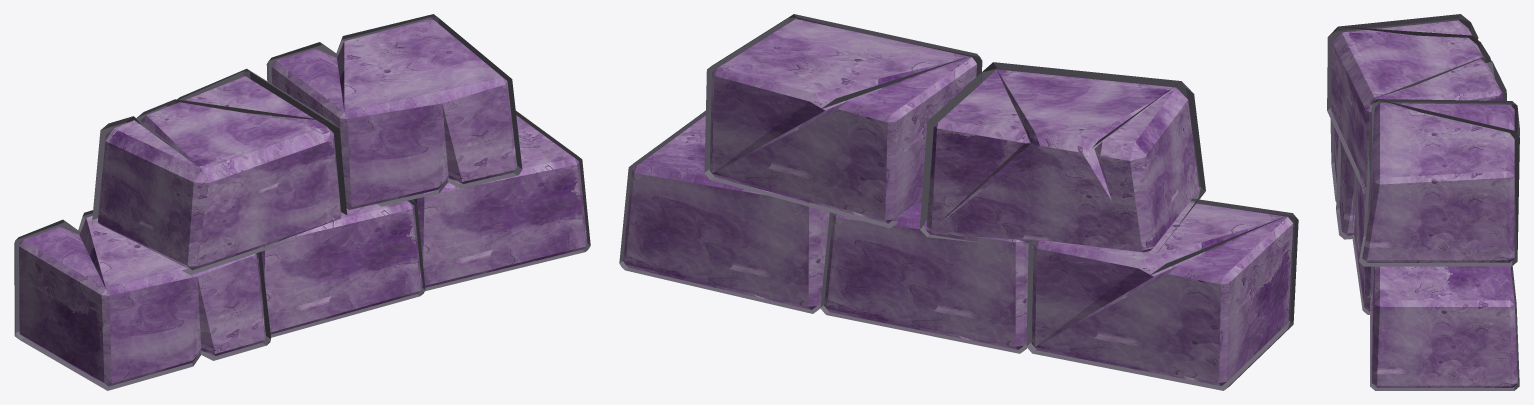
Rendered from entity42242.gltf.
The picture shows the model from 3 angles, left to right: view 1: azimuth 30°, elevation 25°; view 2: azimuth 150°, elevation 25°; view 3: azimuth 270°, elevation 25°; orthographic projection. The views are drawn at different scales.
Parts seen in each view (by area): view 1: node_mesh_ruins_041; view 2: node_mesh_ruins_041; view 3: node_mesh_ruins_041.
Part boxes in pixels (left/top/right/bottom): node_mesh_ruins_041: left=14, top=14, right=590, bottom=390; node_mesh_ruins_041: left=619, top=14, right=1298, bottom=390; node_mesh_ruins_041: left=1327, top=14, right=1519, bottom=390.
Bounding box in the file's own units: 3.32 × 1.23 × 1.15.
2 materials, 1 textured.
